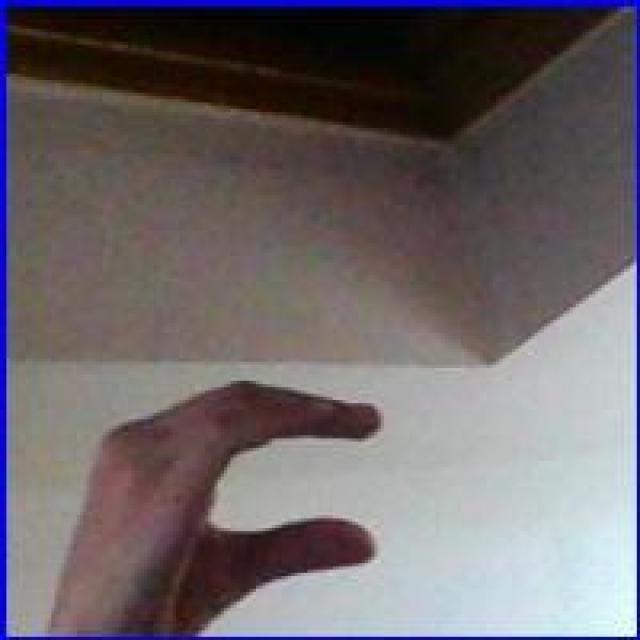C: (67, 374, 394, 624)
